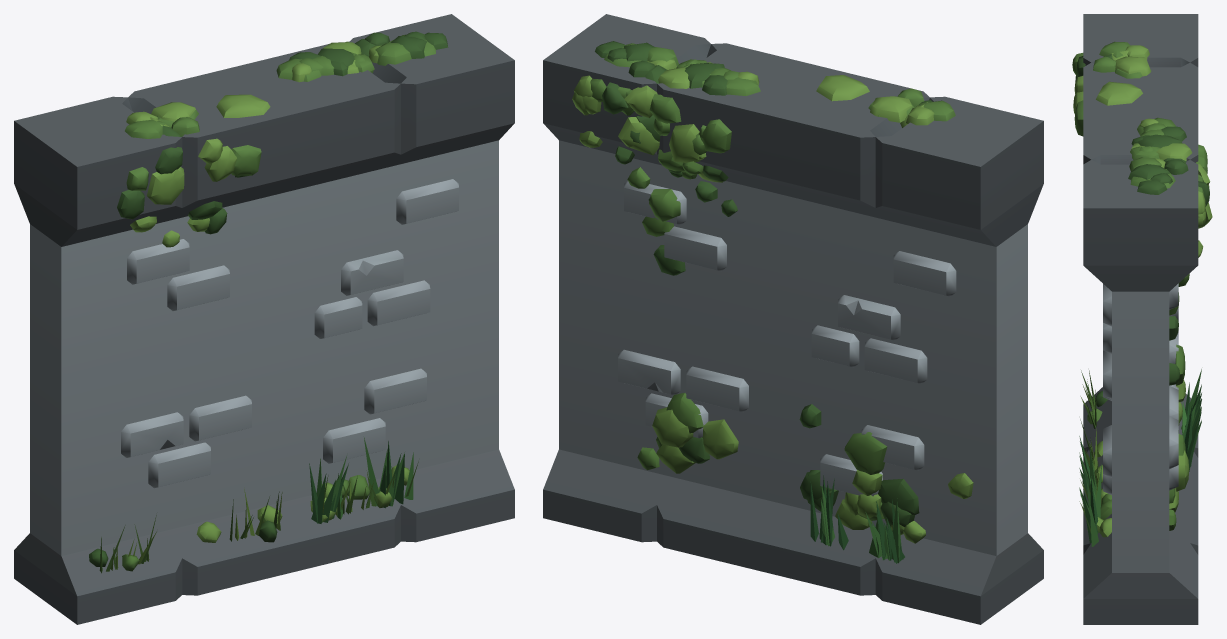
Rendered from wall_mossy_A.glb.
The picture shows the model from 3 angles, left to right: view 1: azimuth 30°, elevation 25°; view 2: azimuth 150°, elevation 25°; view 3: azimuth 270°, elevation 25°; orthographic projection. The views are drawn at different scales.
Visible parts, largest first — view 1: Item; view 2: Item; view 3: Item.
Part boxes in pixels (x1,y1,x2,y2): Item: (14,14,514,624); Item: (543,14,1043,624); Item: (1072,14,1212,624).
Size of the model in its own units: 4 by 4.1 by 1.22.
Materials: 3 (3 with a texture image).
